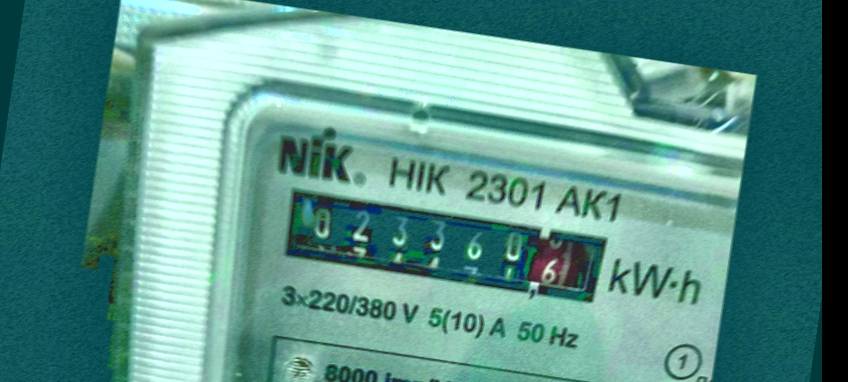0: (309, 203, 336, 241), (501, 227, 528, 265)
2: (349, 207, 375, 244)
3: (388, 212, 413, 250), (427, 217, 449, 253)
6: (463, 225, 488, 262), (538, 252, 561, 287)
screen: (267, 175, 628, 324)
